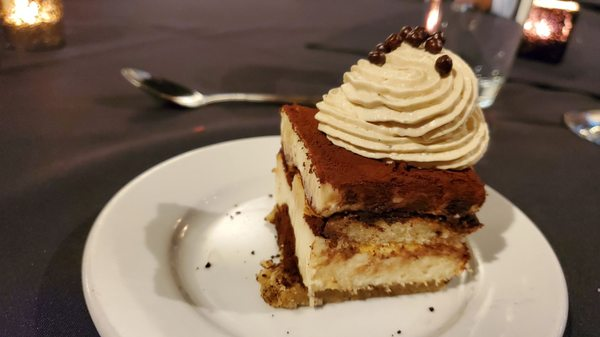sandwich: (122, 66, 323, 110)
